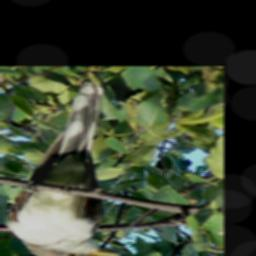Cuckoo: (6, 81, 122, 256)
